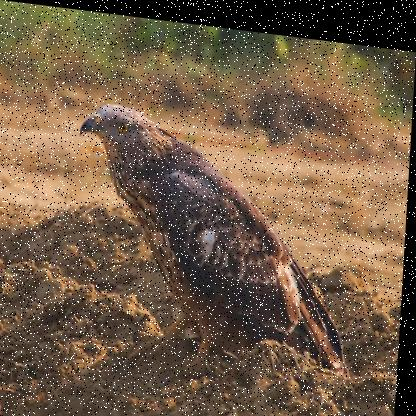Burung: (70, 97, 365, 387)
